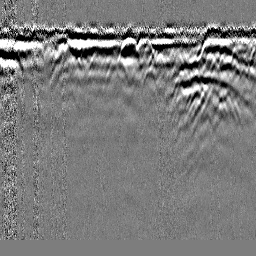cavity: (116, 34, 140, 63)
